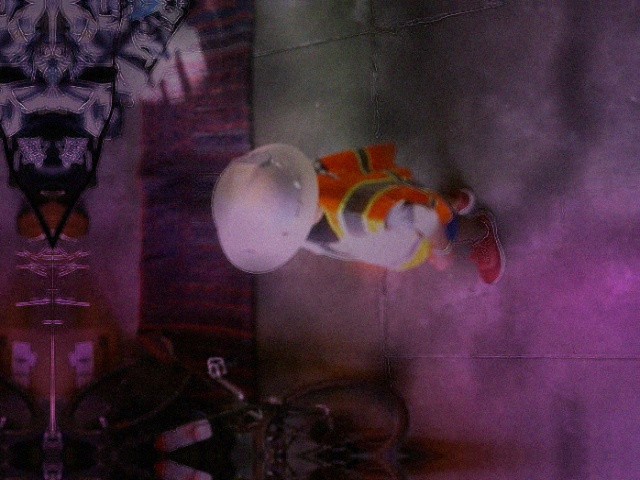two: (229, 151, 271, 165)
